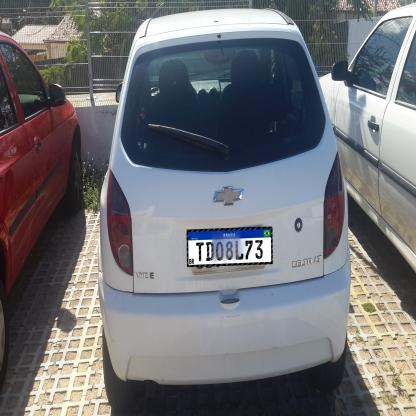PlacaM: (186, 227, 272, 267)
